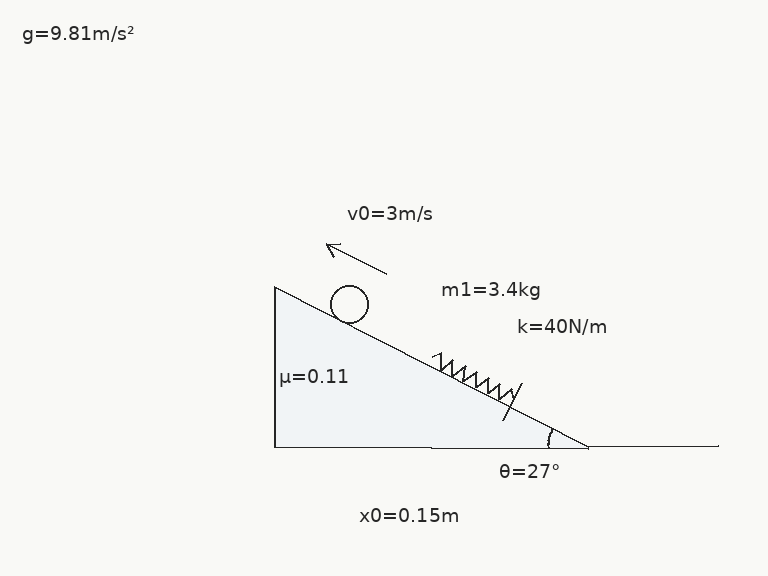ball: (328, 283, 370, 325)
ramp: (272, 285, 590, 449)
spring: (430, 352, 516, 401)
